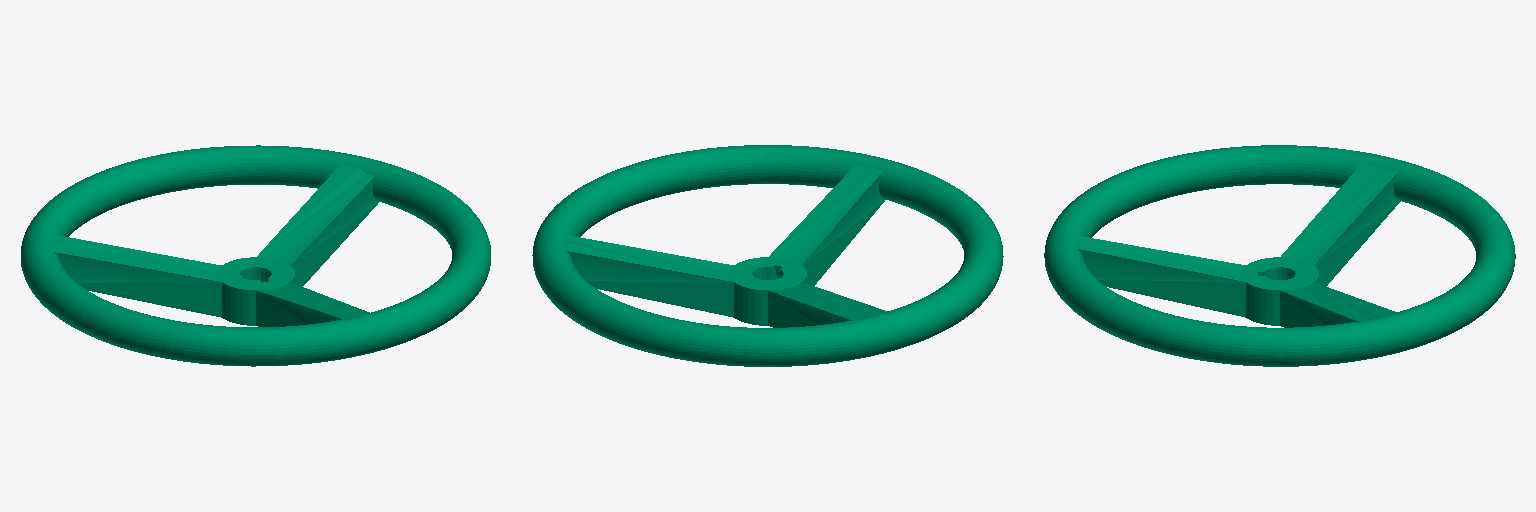
URDF robot description (valve_model):
<?xml version="1.0" ?>
<!-- =================================================================================== -->
<!-- |    This document was autogenerated by xacro from valve.urdf.xacro               | -->
<!-- |    EDITING THIS FILE BY HAND IS NOT RECOMMENDED                                 | -->
<!-- =================================================================================== -->
<robot name="valve_model">
  <link name="world">
   </link>
  <joint name="valve_base_joint" type="fixed">
    <origin rpy="3.14 0.0 0.0" xyz="0.8 0.0 0.5"/>
    <parent link="world"/>
    <child link="valve_gt"/>
  </joint>
  <link name="valve_gt">
    <inertial>
      <mass value="0.01"/>
      <origin rpy="0 0 0" xyz="0 0 0.0"/>
      <inertia ixx="0.000001" ixy="0.0" ixz="0.0" iyy="0.000001" iyz="0.0" izz="0.000001"/>
    </inertial>
  </link>
  <link name="wheel">
    <contact>
      <friction_anchor/>
      <stiffness value="30000.0"/>
      <damping value="1000.0"/>
      <spinning_friction value="0.1"/>
      <lateral_friction value="1.0"/>
    </contact>
    <inertial>
      <origin rpy="0 0 0" xyz="0 0 0"/>
      <mass value="1.0"/>
      <!-- Inertia of a torus radius = 0.12 and cross section radius 0.02-->
      <inertia ixx="0.00745" ixy="0.0" ixz="0.0" iyy="0.0147" iyz="0.0" izz="0.00745"/>
    </inertial>
    <!--collision>
      <origin xyz="0 0 0" rpy="0 0 0"/>
      <geometry>
        <cylinder radius="0.1225" length="0.02"/>
      </geometry>
    </collision-->
    <visual>
      <origin rpy="0 0 0" xyz="0 0 0"/>
      <geometry>
        <mesh filename="package://piloting_demo/models/valve/meshes/valve.dae" scale="1 1 1"/>
      </geometry>
    </visual>
  </link>
  <joint name="wheel_joint" type="continuous">
    <origin rpy="0.0 0 0" xyz="0 0 0"/>
    <axis rpy="0 0 0" xyz="0 0 1"/>
    <parent link="valve_gt"/>
    <child link="wheel"/>
    <dynamics damping="10.0" friction="10.0"/>
    <limit effort="30" lower="-3.14" upper="3.14" velocity="1.0"/>
  </joint>
  <!-- Gazebo simulation -->
  <transmission name="wheel_joint_transmission">
    <type>transmission_interface/SimpleTransmission</type>
    <joint name="wheel_joint">
      <hardwareInterface>hardware_interface/EffortJointInterface</hardwareInterface>
    </joint>
    <actuator name="wheel_joint_motor">
      <mechanicalReduction>1</mechanicalReduction>
    </actuator>
  </transmission>
  <gazebo>
    <plugin filename="libgazebo_ros_control.so" name="gazebo_ros_control">
      <legacyModeNS>true</legacyModeNS>
      <robotParam>valve_description</robotParam>
      <robotNamespace>valve</robotNamespace>
    </plugin>
  </gazebo>
</robot>

--- Facts derived from the render (not from the file) ---
The picture shows the robot from 3 angles, left to right: view 1: azimuth 30°, elevation 25°; view 2: azimuth 150°, elevation 25°; view 3: azimuth 270°, elevation 25°; orthographic projection.
Robot: valve_model — 3 links, 2 joints (1 continuous, 1 fixed); root link world; default pose: all joints at 0.
Visible links, largest first — view 1: wheel; view 2: wheel; view 3: wheel.
Link boxes in pixels (x1,y1,x2,y2): wheel: [21, 145, 490, 366]; wheel: [532, 145, 1003, 366]; wheel: [1044, 145, 1515, 366].
Size in the robot's own frame: 0.24 by 0.2399 by 0.0402 metres.
1 mesh visuals loaded from 1 distinct referenced files (1 Collada DAE).